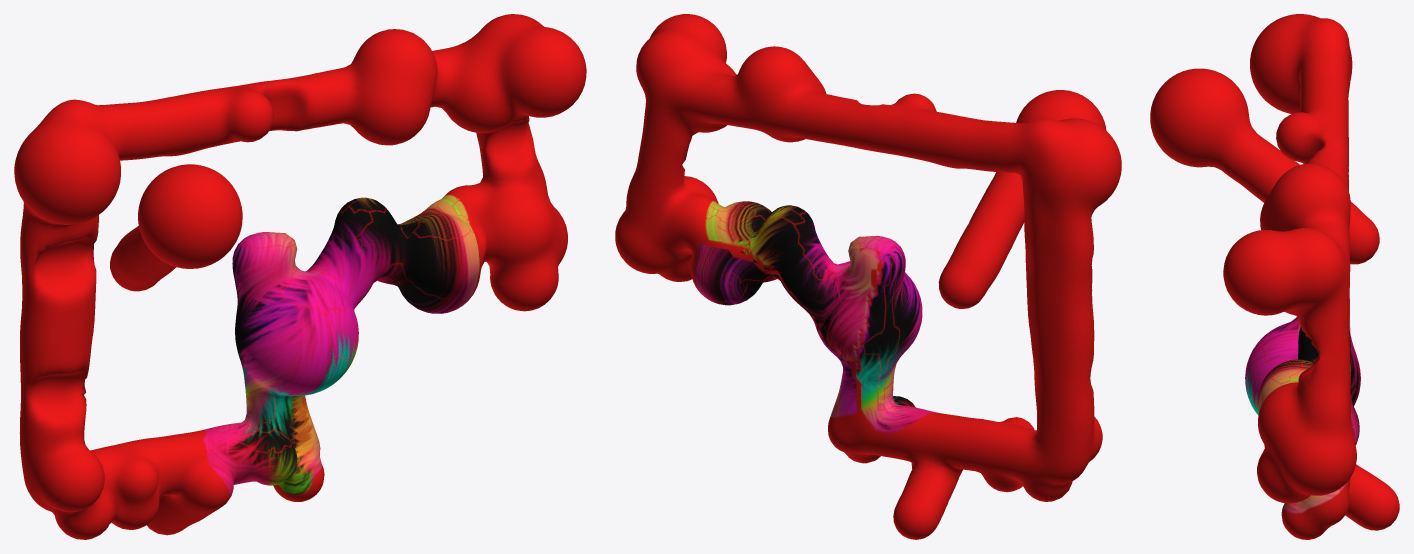
The model's file is puttyyy.glb.
3 renders of one model, left to right at view 1: azimuth 30°, elevation 25°; view 2: azimuth 150°, elevation 25°; view 3: azimuth 270°, elevation 25°, orthographic. The views are drawn at different scales.
Parts seen in each view (by area): view 1: model; view 2: model; view 3: model.
Part boxes in pixels (left/top/right/bottom): model: left=14, top=14, right=586, bottom=539; model: left=615, top=14, right=1121, bottom=539; model: left=1150, top=14, right=1399, bottom=539.
Bounding box in the file's own units: 0.9729 × 0.811 × 0.4055.
1 material, 1 textured.
